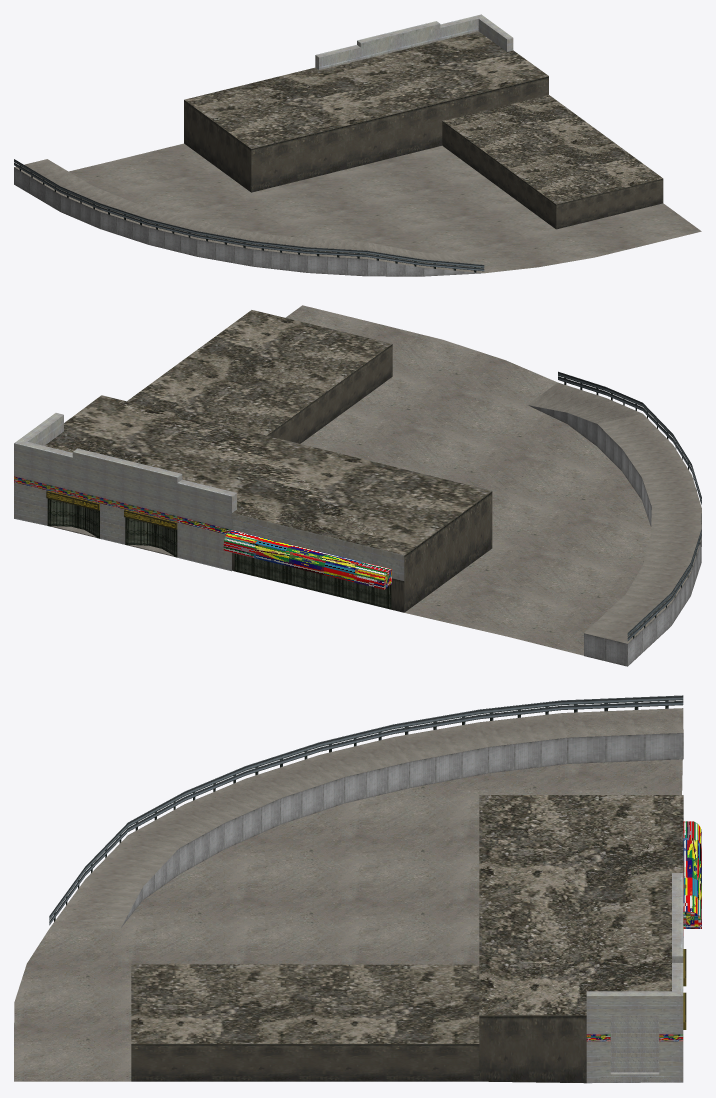
Rendered from nwspltbild3_las2.obj.
The picture shows the model from 3 angles, top to bottom: view 1: azimuth 30°, elevation 25°; view 2: azimuth 150°, elevation 25°; view 3: azimuth 270°, elevation 25°; orthographic projection. The views are drawn at different scales.
Visible parts, largest first — view 1: nwspltbild3_las2; view 2: nwspltbild3_las2; view 3: nwspltbild3_las2.
Boxes of the visible parts, bbox=[...] form: nwspltbild3_las2: bbox=[14, 14, 701, 276]; nwspltbild3_las2: bbox=[14, 305, 701, 666]; nwspltbild3_las2: bbox=[14, 695, 701, 1083].
Size of the model in its own units: 56.37 by 7.12 by 47.21.
